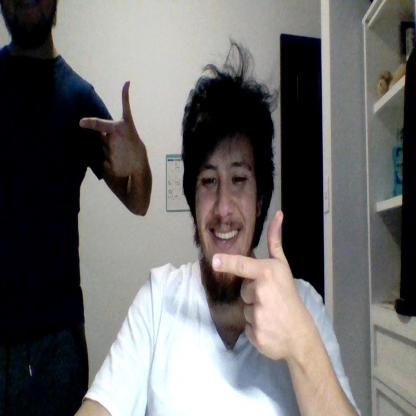G: (212, 212, 298, 361), (79, 80, 138, 177)
